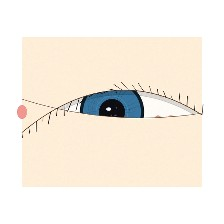hemorrhage_spot: (118, 104, 183, 156)
